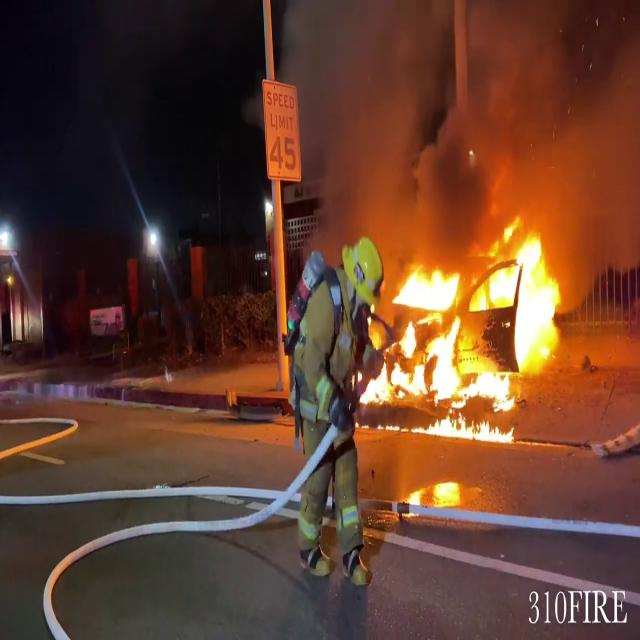Fire: (361, 215, 573, 437)
Smoke: (278, 0, 638, 228)
